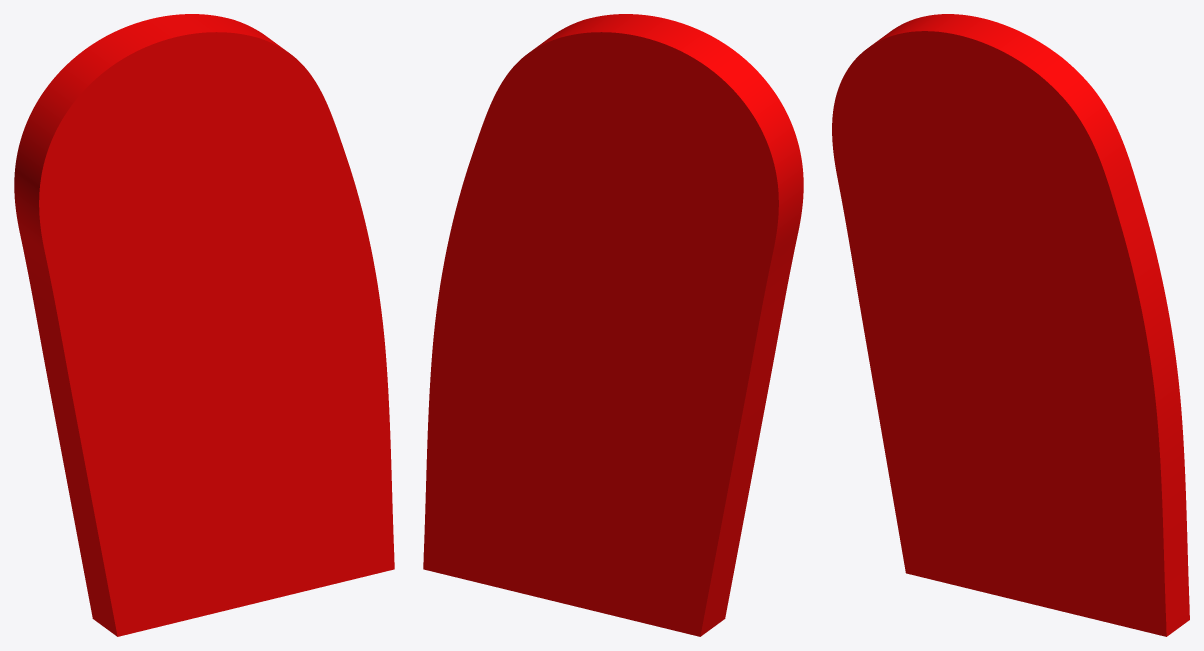
File: Asset 2.gltf
3 renders of one model, left to right at view 1: azimuth 30°, elevation 25°; view 2: azimuth 150°, elevation 25°; view 3: azimuth 330°, elevation 25°, orthographic. The views are drawn at different scales.
Bounding box in the file's own units: 0.1655 × 0.2605 × 0.02.
